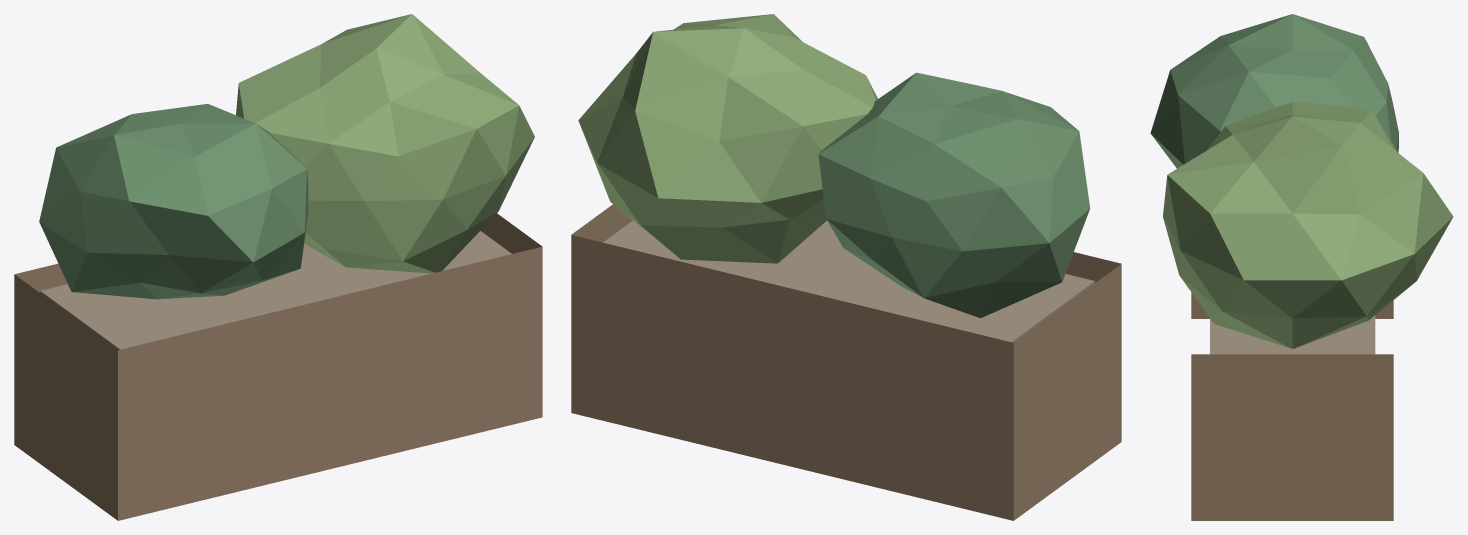
The model's file is HK_Planter.glb.
3 views of the same model, side by side, from view 1: azimuth 30°, elevation 25°; view 2: azimuth 150°, elevation 25°; view 3: azimuth 270°, elevation 25° (orthographic). The views are drawn at different scales.
Visible parts, largest first — view 1: HK_Planter; view 2: HK_Planter; view 3: HK_Planter.
Part boxes in pixels (x1,y1,x2,y2): HK_Planter: (14, 14, 542, 520); HK_Planter: (571, 14, 1121, 520); HK_Planter: (1150, 14, 1453, 520).
Bounding box in the file's own units: 1.38 × 1.05 × 0.8241.
